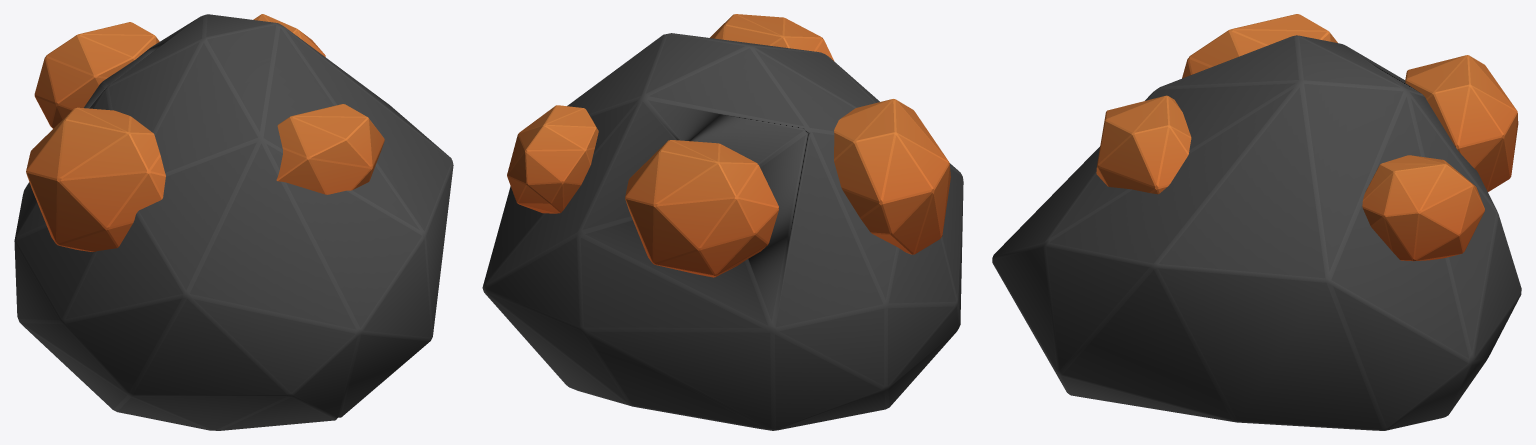
Rendered from Ore_Copper_2.glb.
3 renders of one model, left to right at view 1: azimuth 30°, elevation 25°; view 2: azimuth 150°, elevation 25°; view 3: azimuth 270°, elevation 25°, orthographic. The views are drawn at different scales.
Visible parts, largest first — view 1: Ore_Coper_2; view 2: Ore_Coper_2; view 3: Ore_Coper_2.
Part boxes in pixels (x1,y1,x2,y2): Ore_Coper_2: [14, 14, 453, 430]; Ore_Coper_2: [482, 14, 963, 430]; Ore_Coper_2: [992, 14, 1521, 430].
Size of the model in its own units: 1.4 by 1.2 by 1.55.
